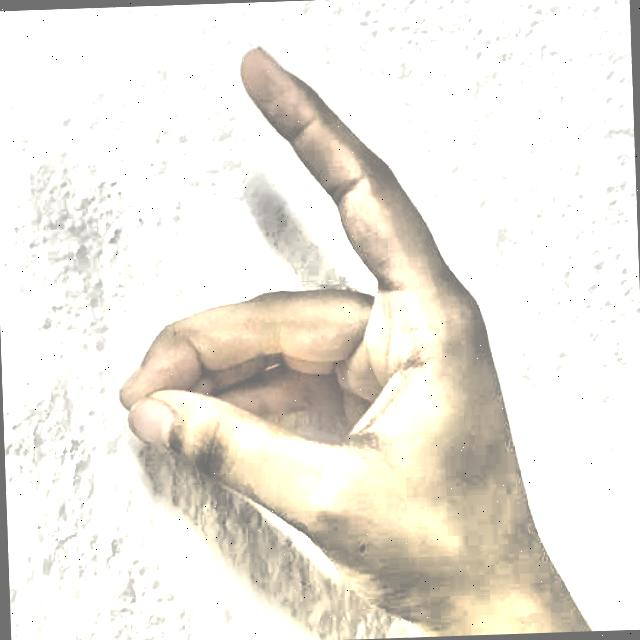Dha: (93, 15, 583, 640)
